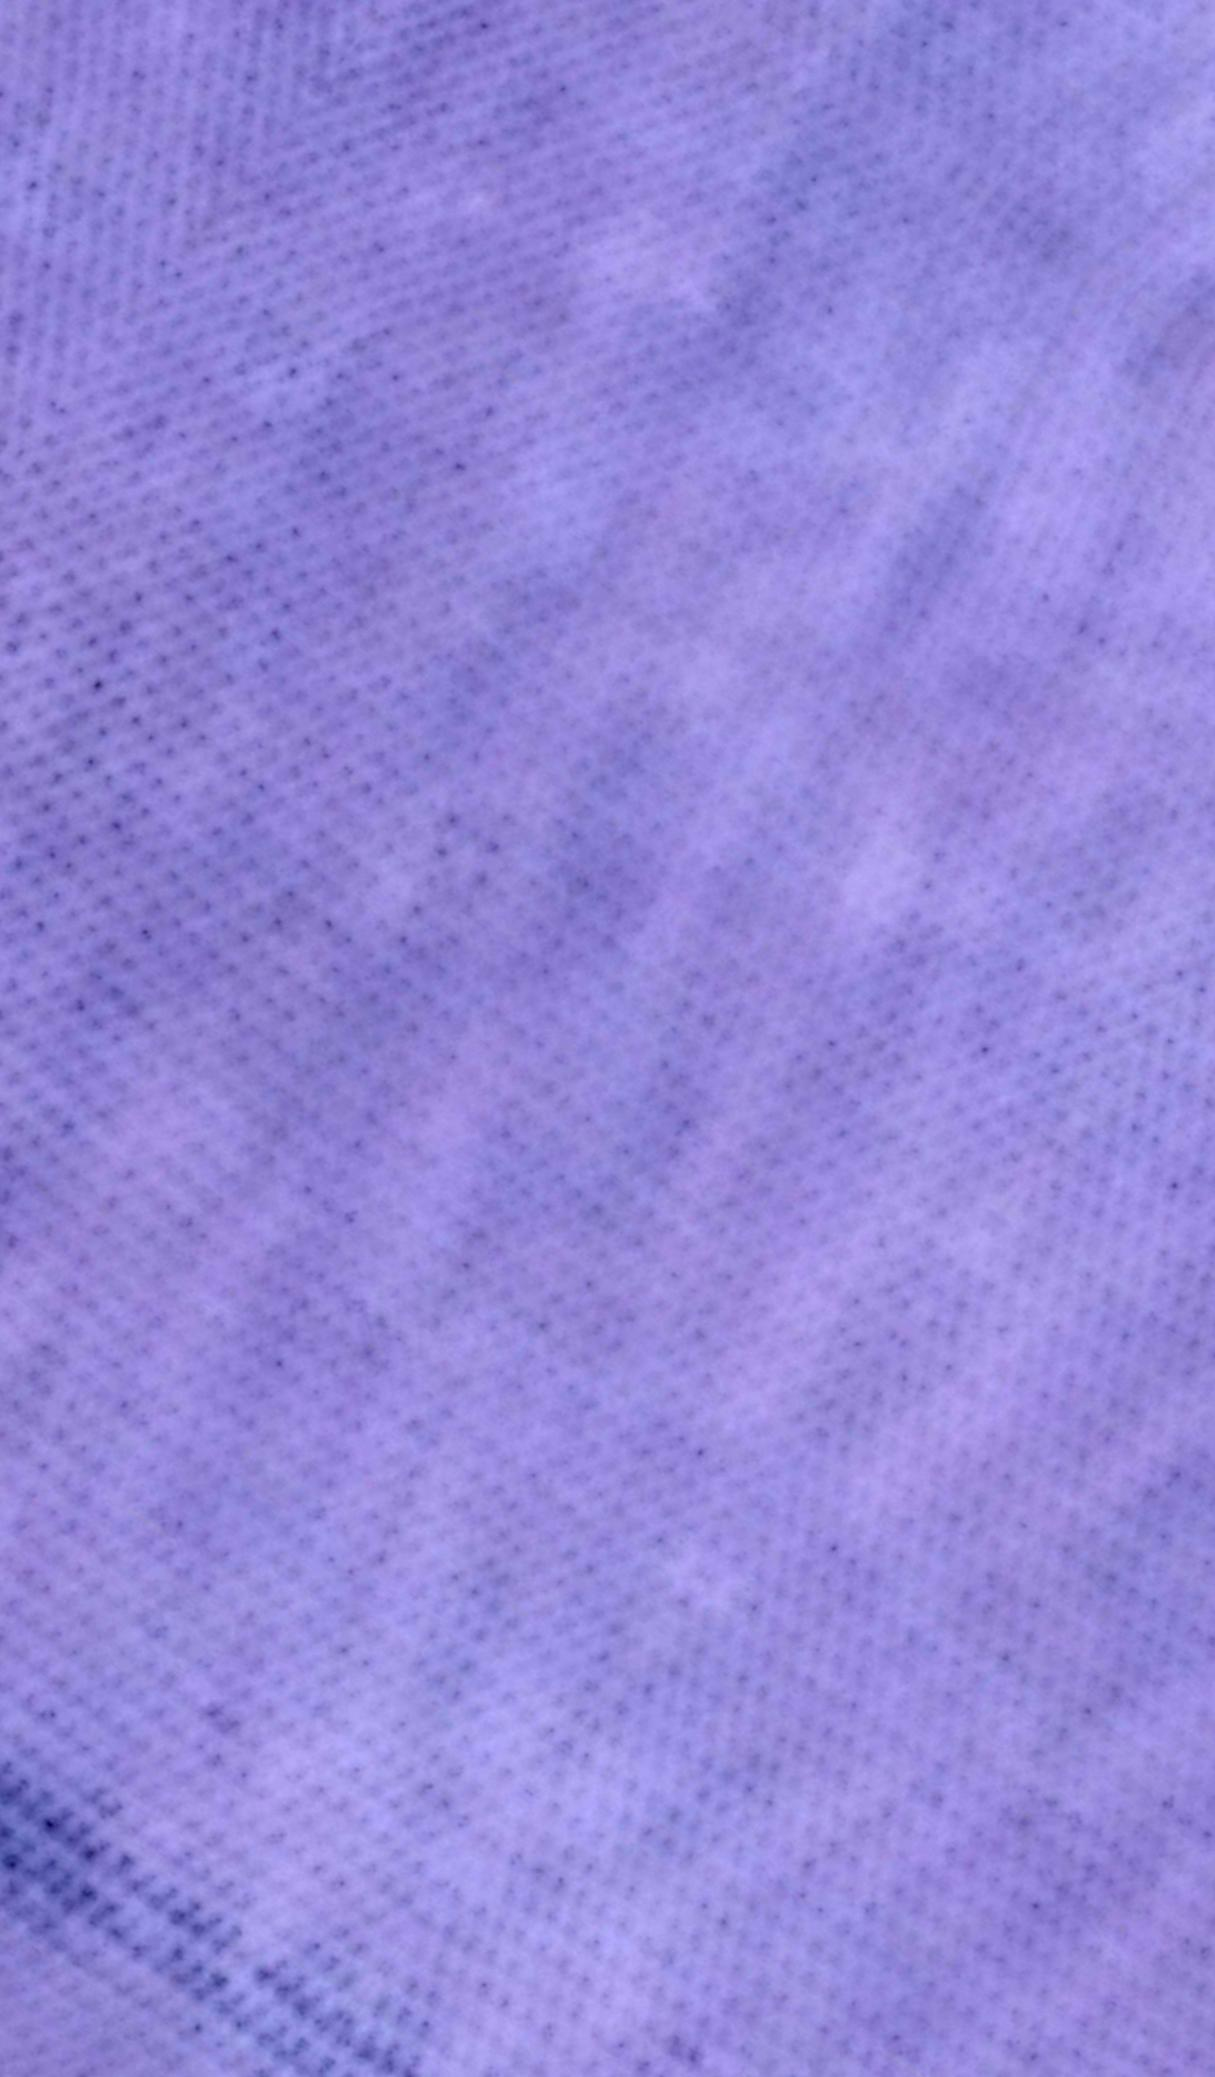slub: (0, 1760, 466, 2077)
